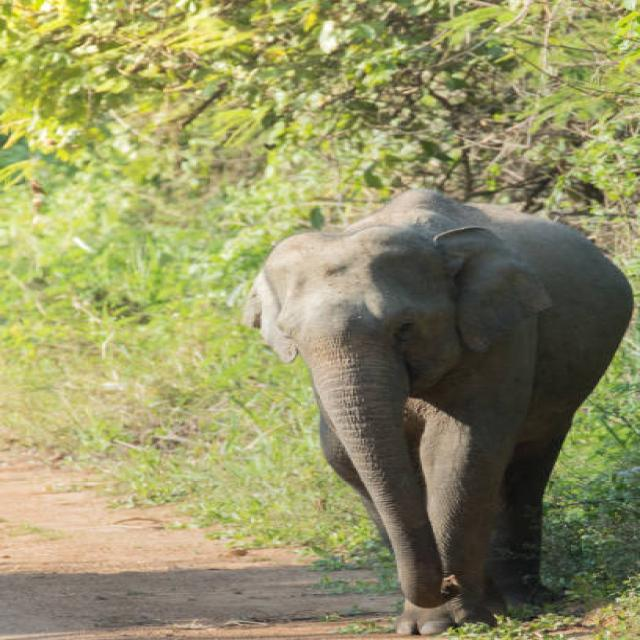Elephant: (241, 180, 640, 613)
